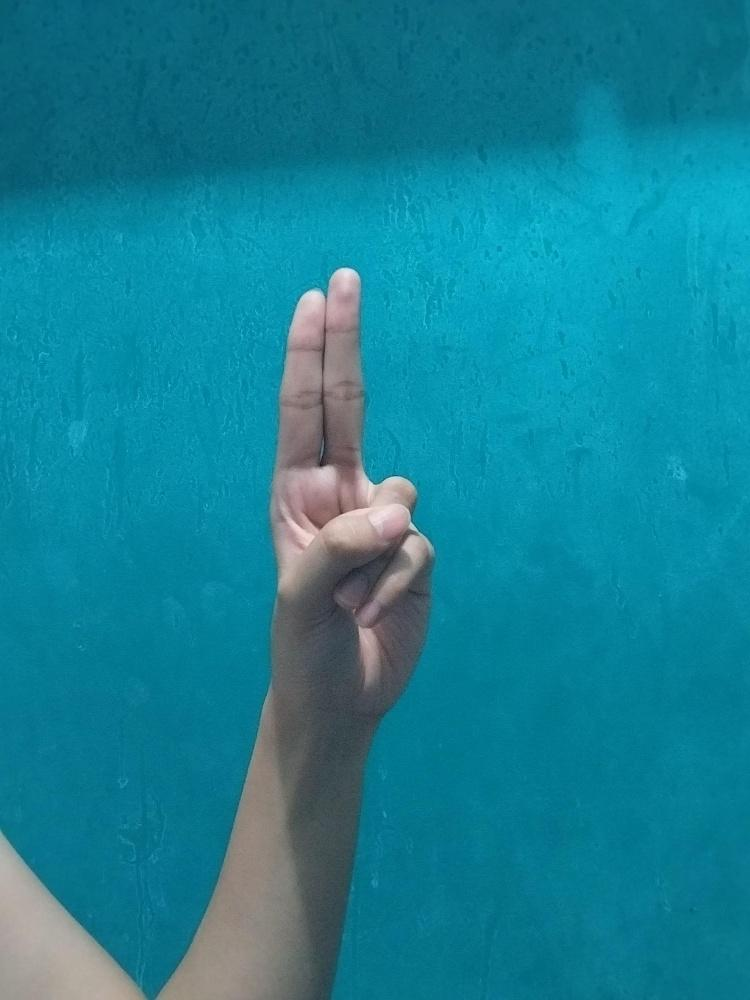u: (260, 263, 439, 721)
